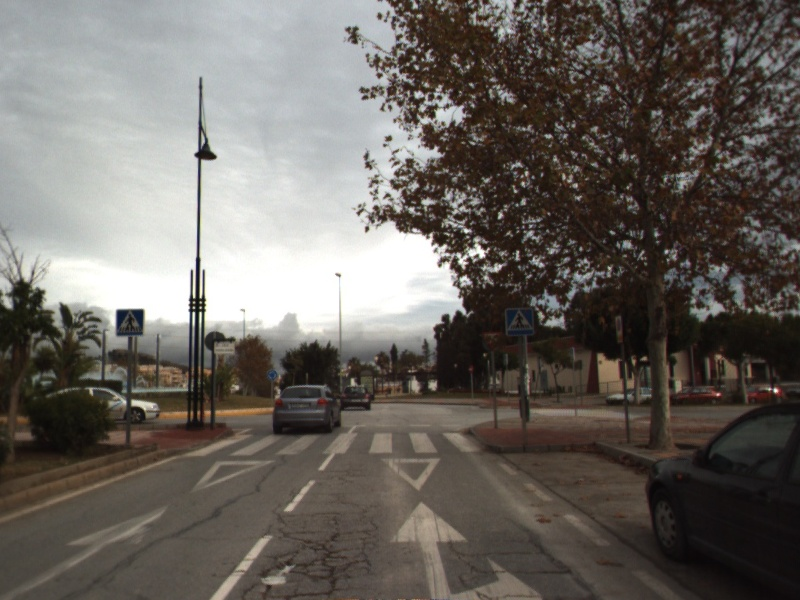STRAIGHT: (1, 498, 174, 600)
STRAIGHT_RIGHT: (385, 498, 546, 599)
